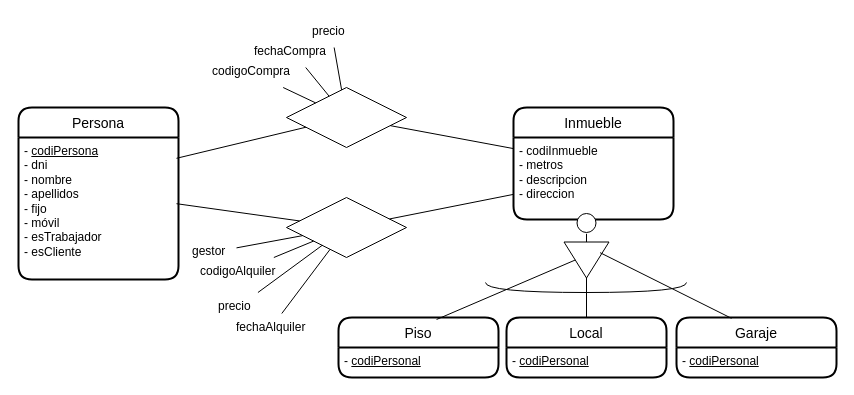
This 854x395 diagram has some shape labels left out. Here are the shapes that lost their labels. From the top down, the centre of each, then its label:
At point (346, 117): "Compra".
At point (346, 227): "Alquila".
